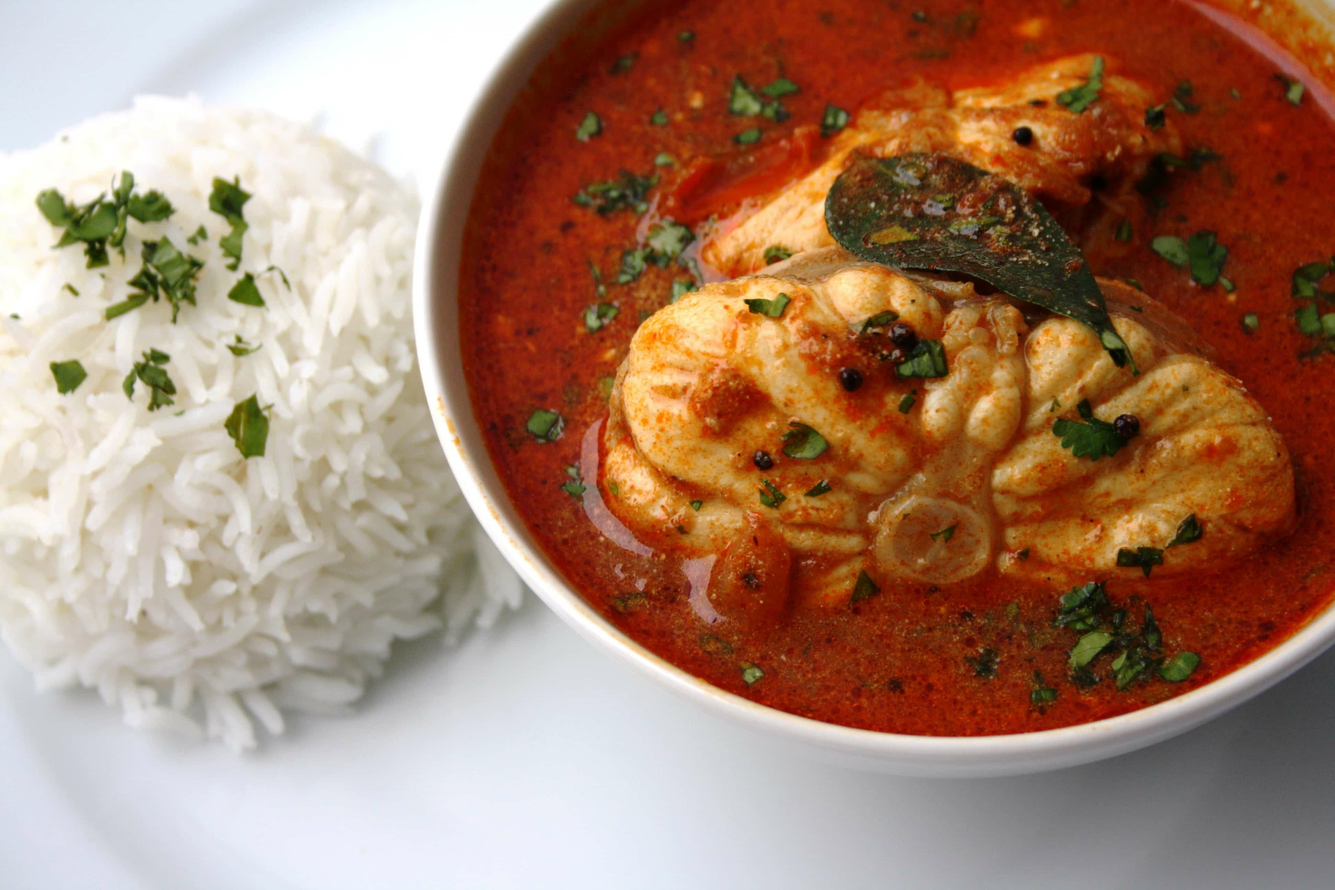FishCurry: (456, 0, 1335, 739)
WhiteRice: (0, 95, 530, 756)
